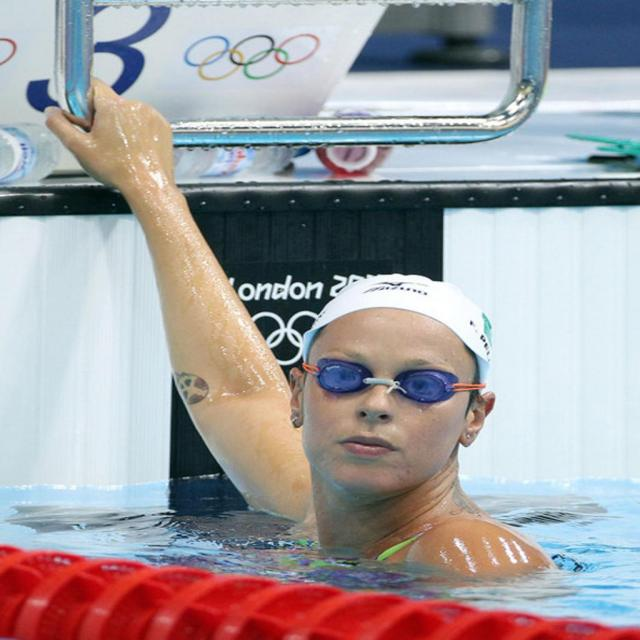nomask: (309, 317, 465, 489)
